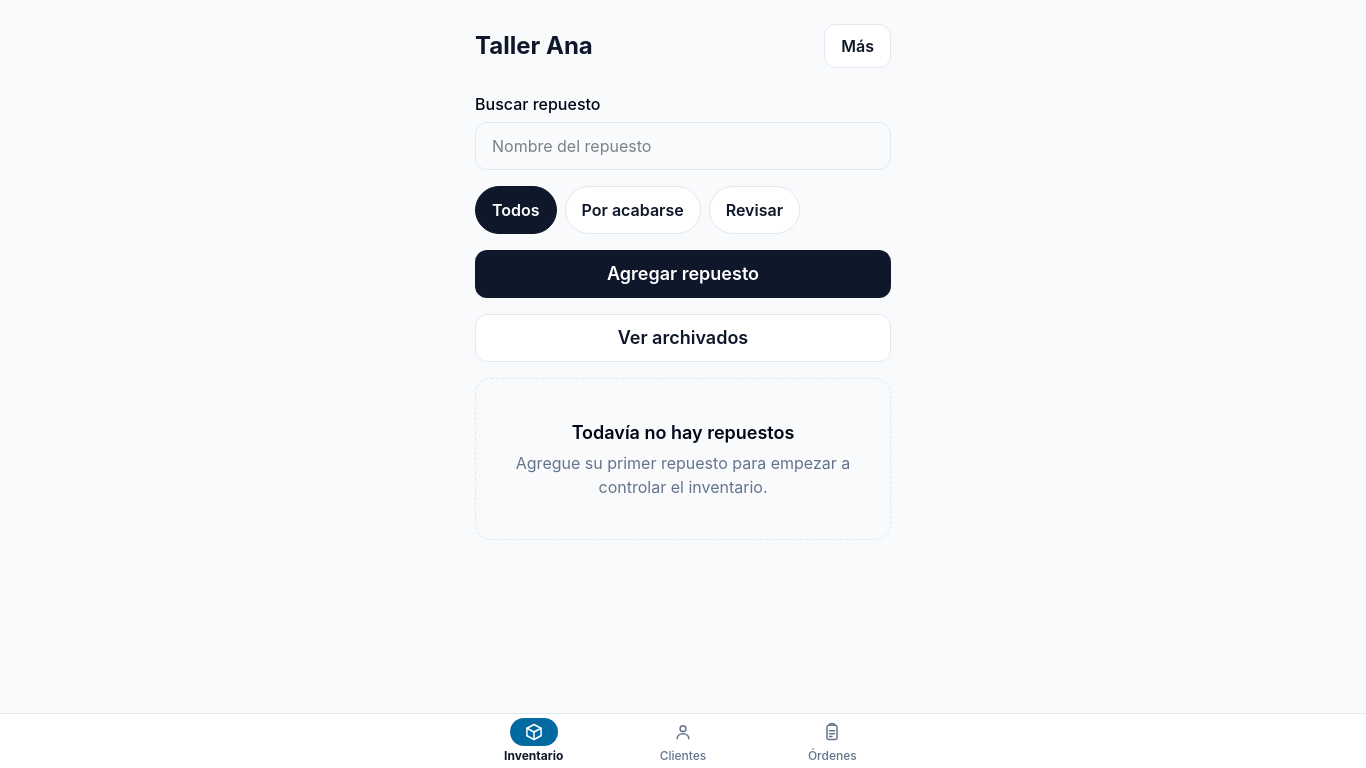
AppShell › disables 'Exportar todo' while offline, with the Spanish message
The image size is (1366, 768).
Expected: the text "Taller Ana" is shown, [475,30,593,62]
Click the button "Más" at (858, 46), box [824,24,891,68]
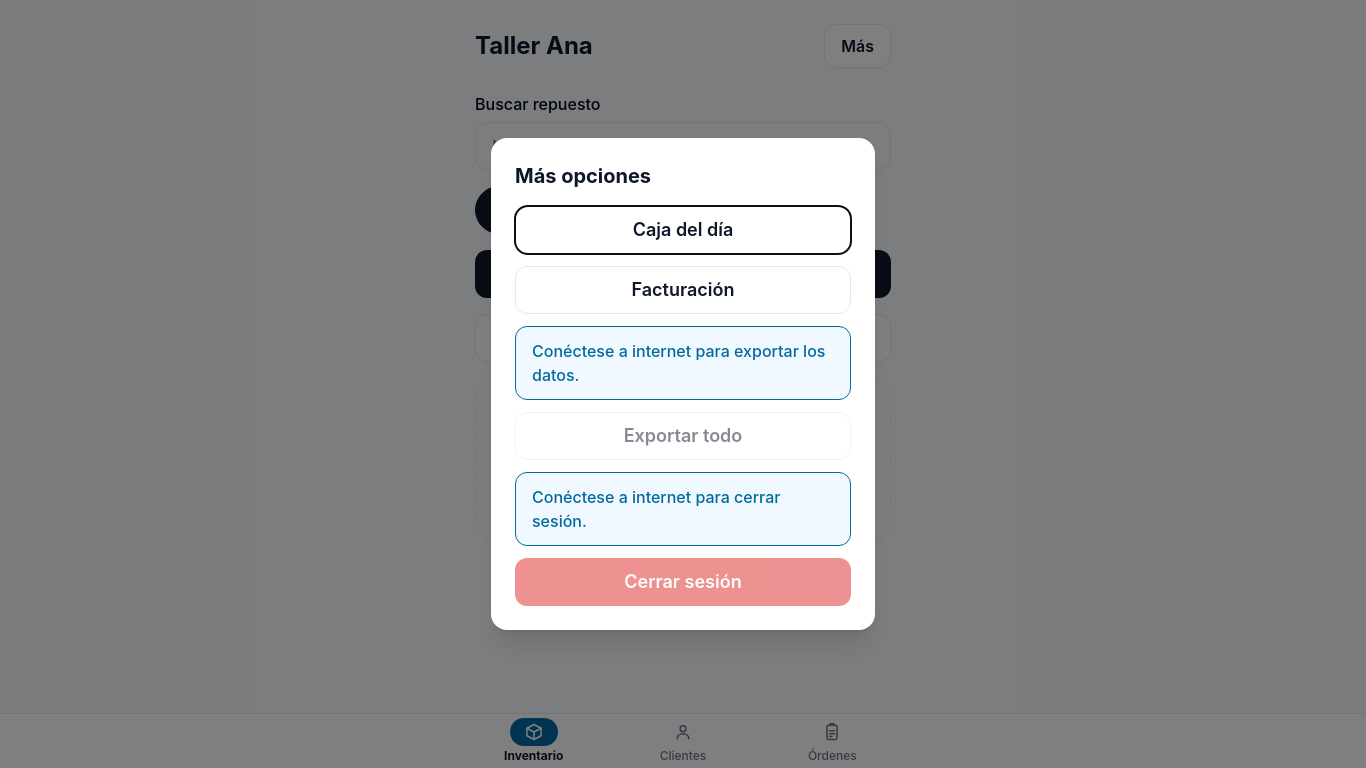
Result: the button "Exportar todo" is disabled at [515,412,851,460]
Result: the text "Conéctese a internet para exportar los datos." is shown at [515,326,851,400]
